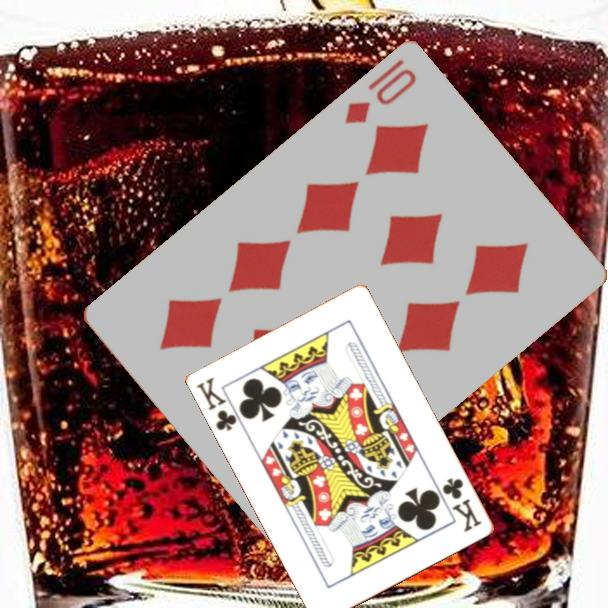c13: (193, 373, 240, 435), (439, 474, 485, 535)
d10: (341, 56, 419, 128)
